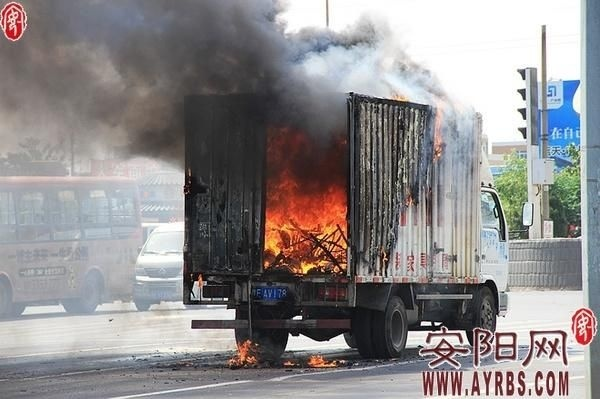fire: (263, 130, 351, 276), (227, 336, 258, 366), (429, 109, 446, 161)
